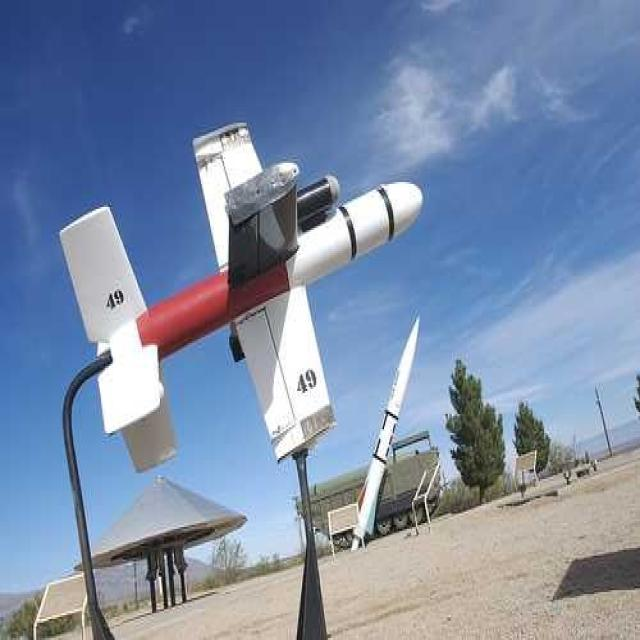missile: (62, 118, 422, 431), (349, 316, 422, 548)
